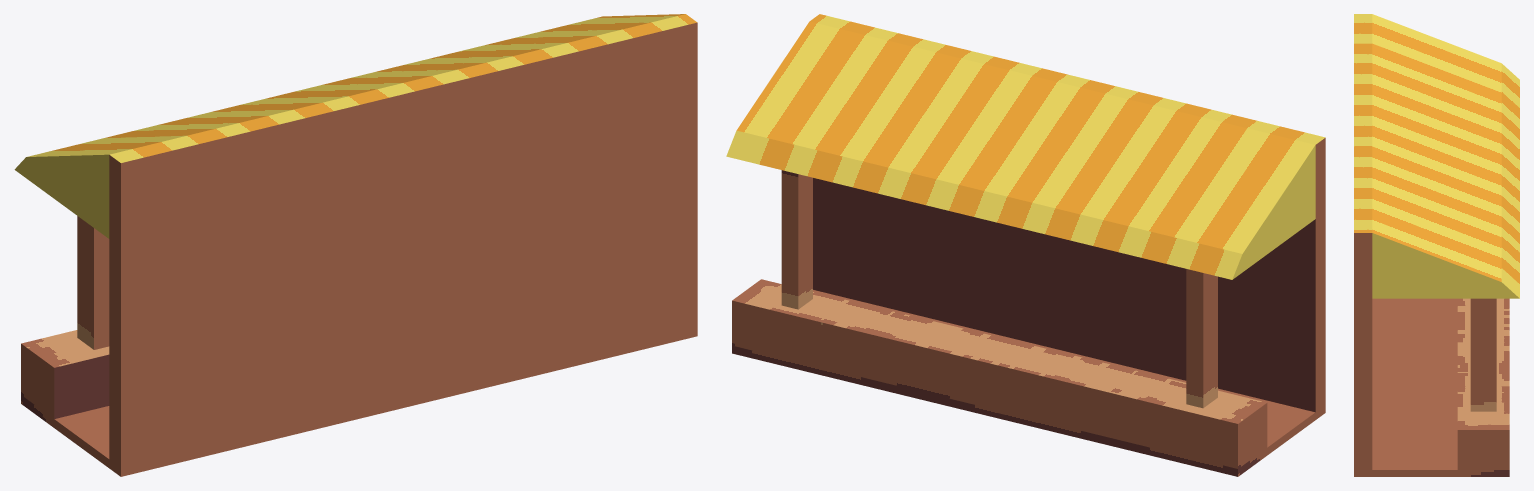
Rendered from Market.gltf.
3 renders of one model, left to right at view 1: azimuth 30°, elevation 25°; view 2: azimuth 150°, elevation 25°; view 3: azimuth 270°, elevation 25°, orthographic. The views are drawn at different scales.
Parts seen in each view (by area): view 1: cuboid; view 2: cuboid; view 3: cuboid.
Part boxes in pixels (x1=…): cuboid: x1=14, y1=14, x2=697, y2=476; cuboid: x1=726, y1=14, x2=1325, y2=476; cuboid: x1=1354, y1=14, x2=1519, y2=476.
Size of the model in its own units: 12.5 by 6.5 by 4.
Materials: 1 (1 with a texture image).
